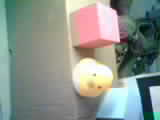duck: (61, 56, 115, 105)
